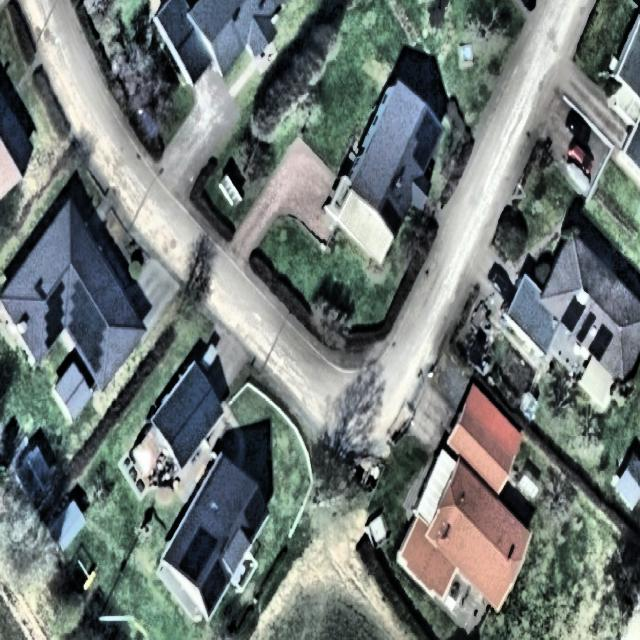roof_pv: (69, 275, 107, 381), (179, 524, 219, 585), (412, 110, 442, 182), (42, 278, 68, 350), (200, 559, 232, 613), (561, 295, 585, 332), (596, 322, 614, 365), (579, 308, 593, 356)
